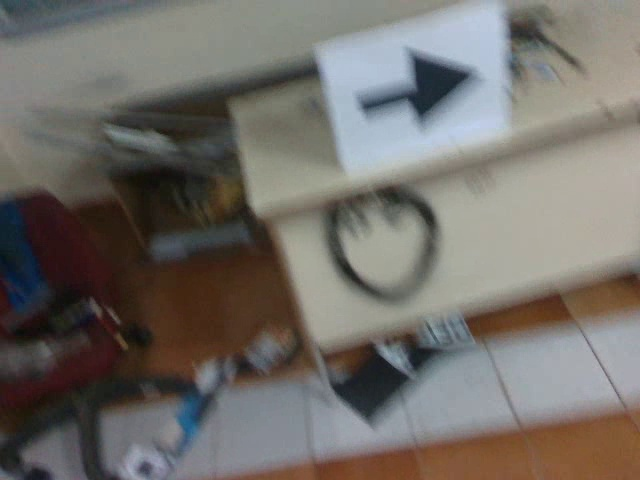Right: (350, 42, 476, 127)
